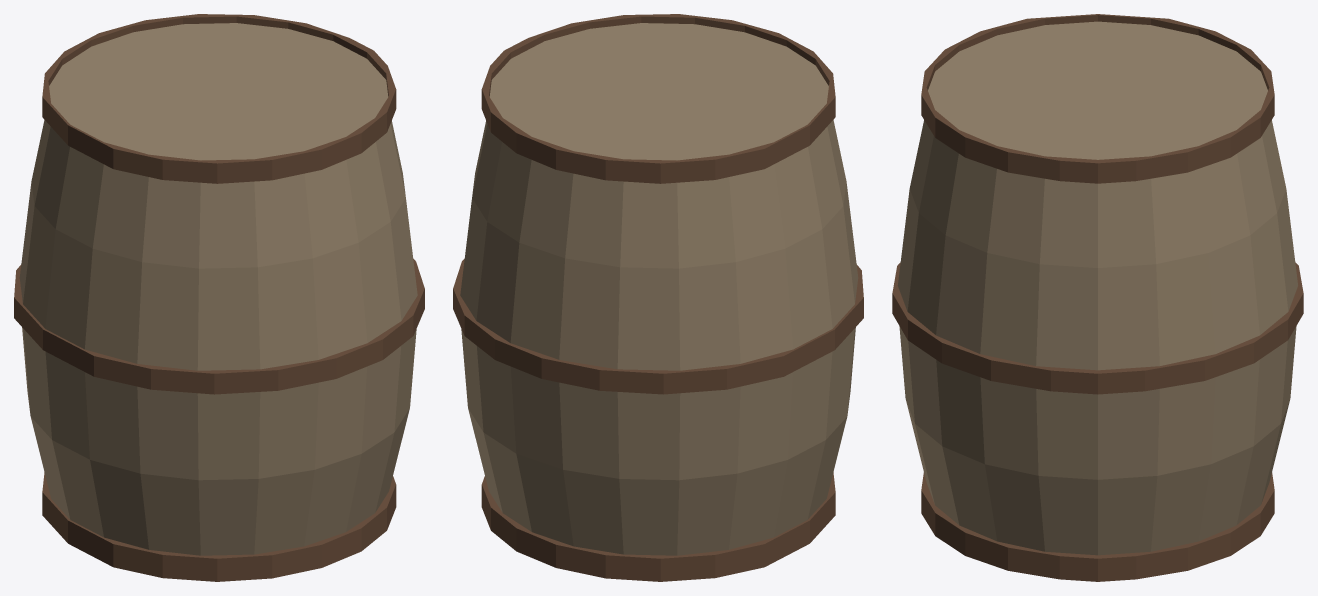
Rendered from Barrel.fbx.
The picture shows the model from 3 angles, left to right: view 1: azimuth 30°, elevation 25°; view 2: azimuth 150°, elevation 25°; view 3: azimuth 270°, elevation 25°; orthographic projection.
Visible parts, largest first — view 1: pCylinder1; view 2: pCylinder1; view 3: pCylinder1.
Boxes of the visible parts, x1,y1,x2,y2 form: pCylinder1: [14, 14, 424, 581]; pCylinder1: [453, 14, 863, 581]; pCylinder1: [892, 14, 1303, 581].
Bounding box in the file's own units: 2.65 × 2.97 × 2.65.
